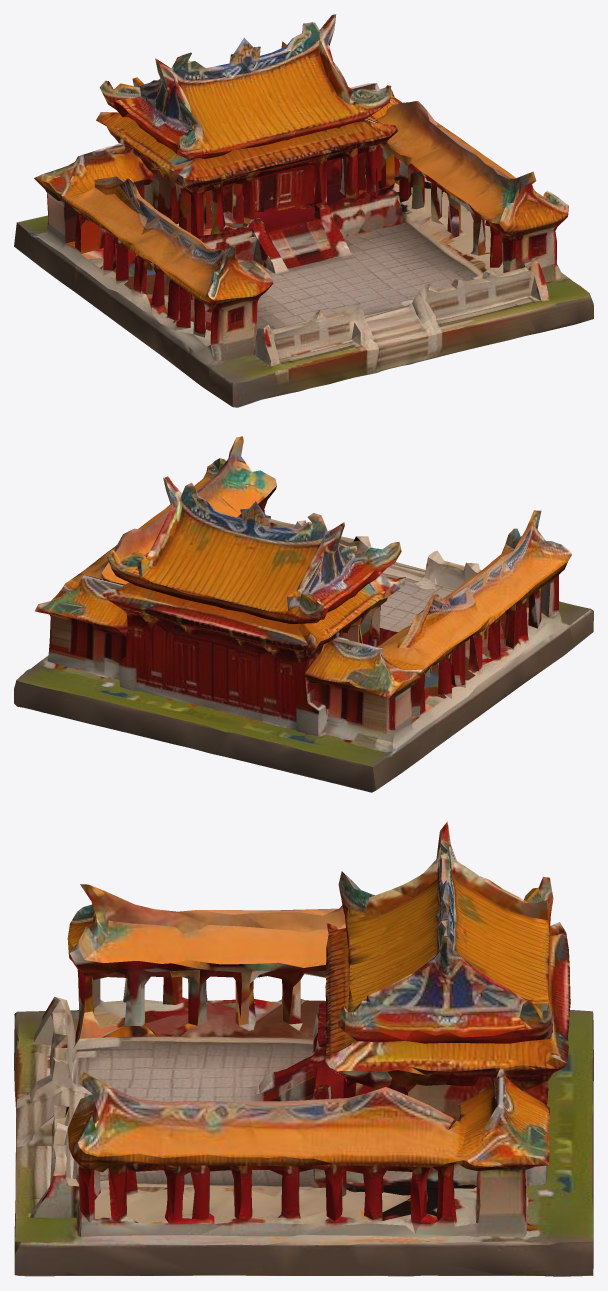
Rendered from taipei-confucius-temple.glb.
The picture shows the model from 3 angles, top to bottom: view 1: azimuth 30°, elevation 25°; view 2: azimuth 150°, elevation 25°; view 3: azimuth 270°, elevation 25°; orthographic projection. The views are drawn at different scales.
Parts seen in each view (by area): view 1: logan-textured.obj; view 2: logan-textured.obj; view 3: logan-textured.obj.
Part boxes in pixels (x1,y1,x2,y2): logan-textured.obj: (14, 14, 593, 407); logan-textured.obj: (14, 436, 593, 792); logan-textured.obj: (14, 821, 593, 1276).
Bounding box in the file's own units: 0.9562 × 0.5331 × 1.
Materials: 1 (1 with a texture image).
